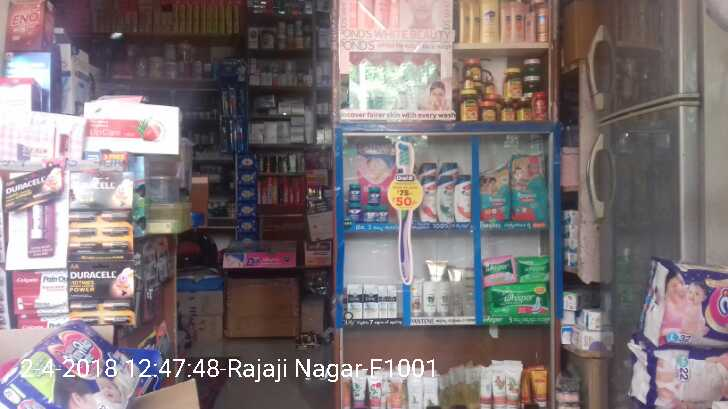vicks: (349, 182, 388, 222)
